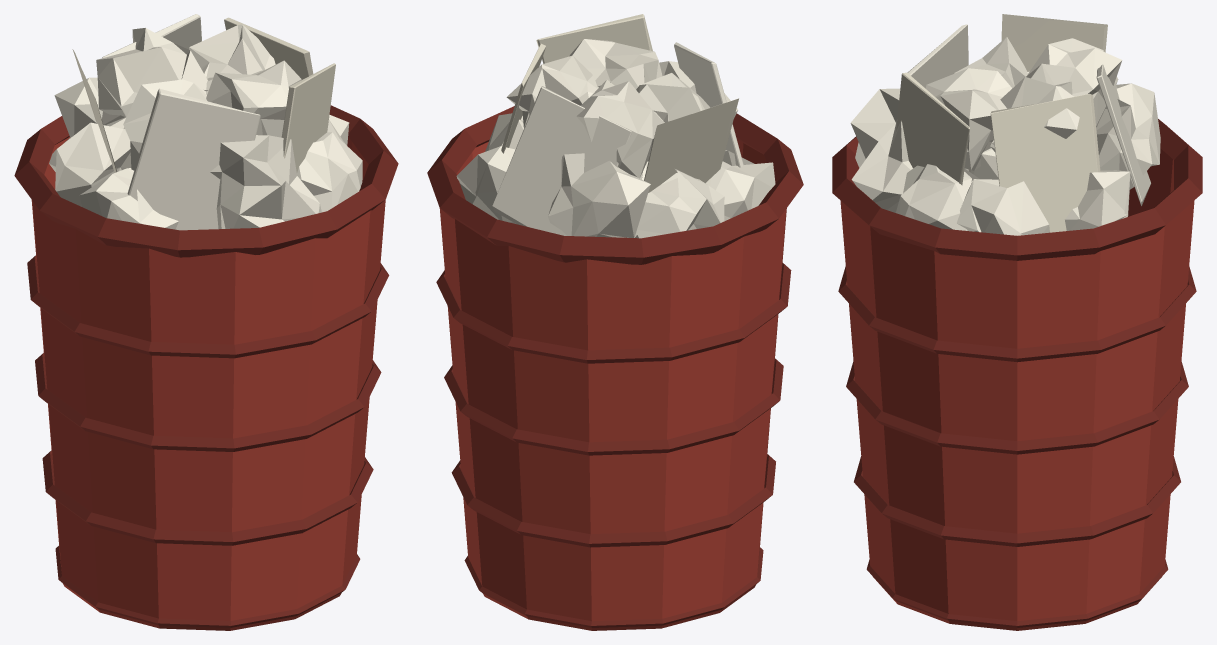
The model's file is papelera.glb.
The picture shows the model from 3 angles, left to right: view 1: azimuth 30°, elevation 25°; view 2: azimuth 150°, elevation 25°; view 3: azimuth 270°, elevation 25°; orthographic projection. The views are drawn at different scales.
Parts seen in each view (by area): view 1: papelera; view 2: papelera; view 3: papelera.
Part boxes in pixels (x1=…): papelera: x1=14, y1=14, x2=398, y2=630; papelera: x1=427, y1=14, x2=803, y2=630; papelera: x1=832, y1=14, x2=1202, y2=630.
Size of the model in its own units: 0.36 by 0.5347 by 0.351.
